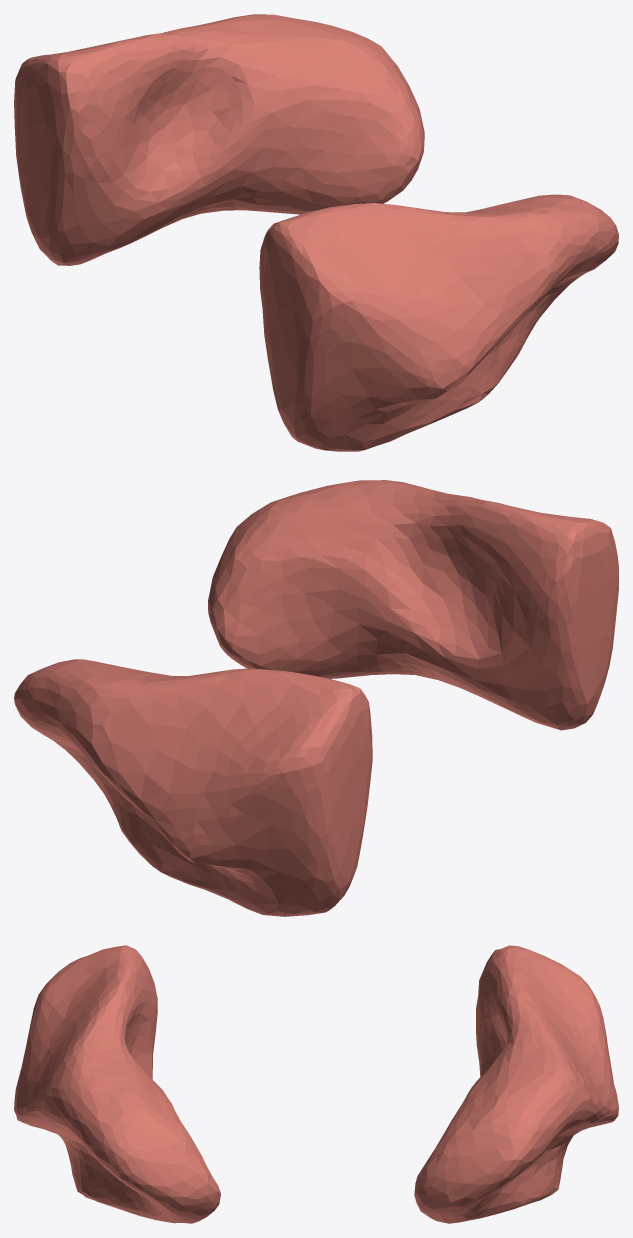
3 renders of one model, top to bottom at view 1: azimuth 30°, elevation 25°; view 2: azimuth 150°, elevation 25°; view 3: azimuth 270°, elevation 25°, orthographic. The views are drawn at different scales.
Parts seen in each view (by area): view 1: 194.obj; view 2: 194.obj; view 3: 194.obj.
Part boxes in pixels (left/top/right/bottom): 194.obj: left=14, top=14, right=618, bottom=451; 194.obj: left=14, top=480, right=618, bottom=916; 194.obj: left=14, top=945, right=618, bottom=1223.
Bounding box in the file's own units: 2058 × 1270 × 3539.
